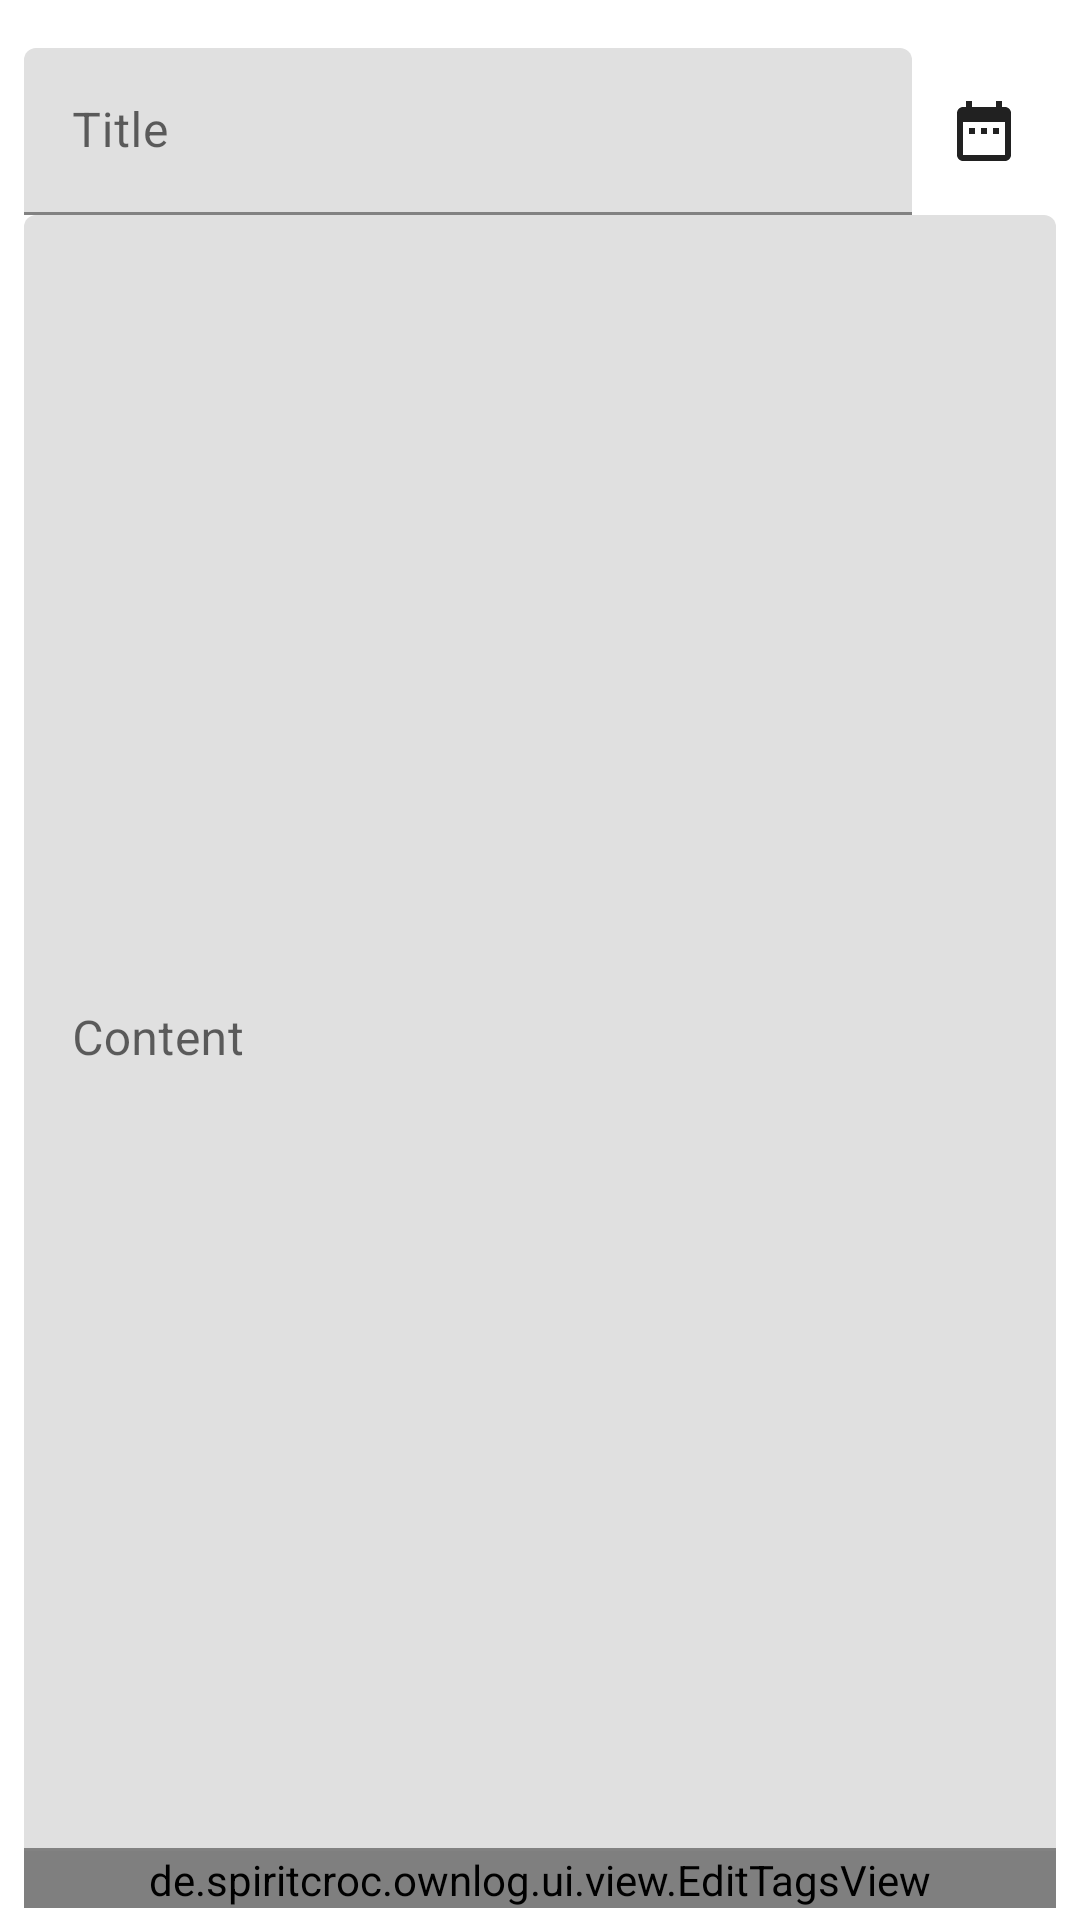

Named icons in this screenshot (1080x1920) and their bounding boxes, (x1, y1, x2, y2):
date: (957, 101, 1011, 161)
